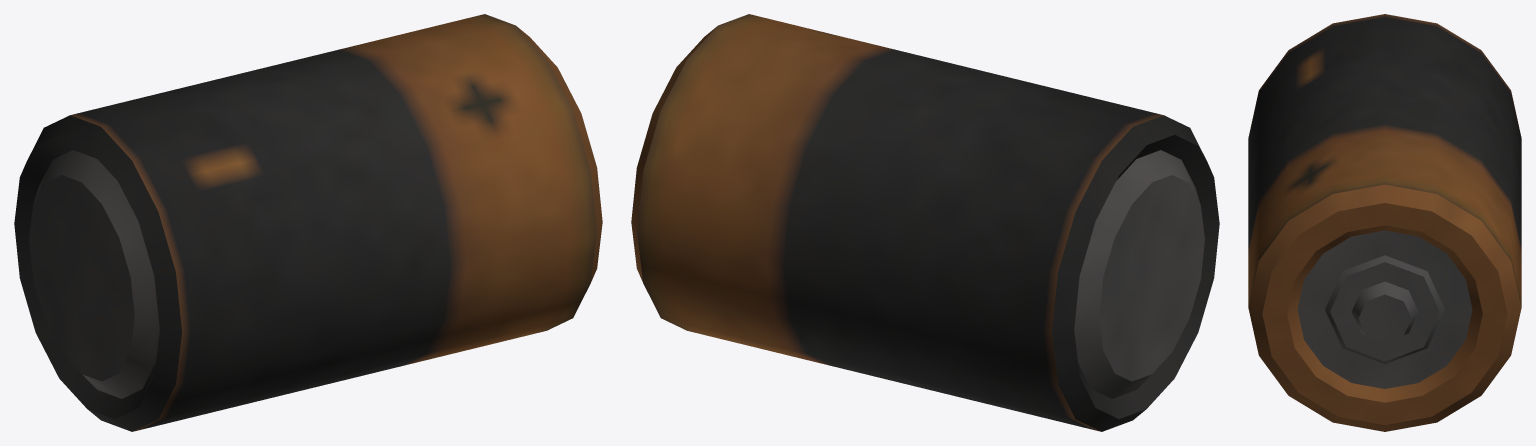
The model's file is battery_mp_2.dae.
The picture shows the model from 3 angles, left to right: view 1: azimuth 30°, elevation 25°; view 2: azimuth 150°, elevation 25°; view 3: azimuth 270°, elevation 25°; orthographic projection. The views are drawn at different scales.
Visible parts, largest first — view 1: battery_mp_2; view 2: battery_mp_2; view 3: battery_mp_2.
Part boxes in pixels (x1=…): battery_mp_2: x1=14, y1=14, x2=602, y2=431; battery_mp_2: x1=631, y1=14, x2=1219, y2=431; battery_mp_2: x1=1248, y1=14, x2=1521, y2=431.
Bounding box in the file's own units: 0.0883 × 0.054 × 0.054.
Materials: 1 (1 with a texture image).
